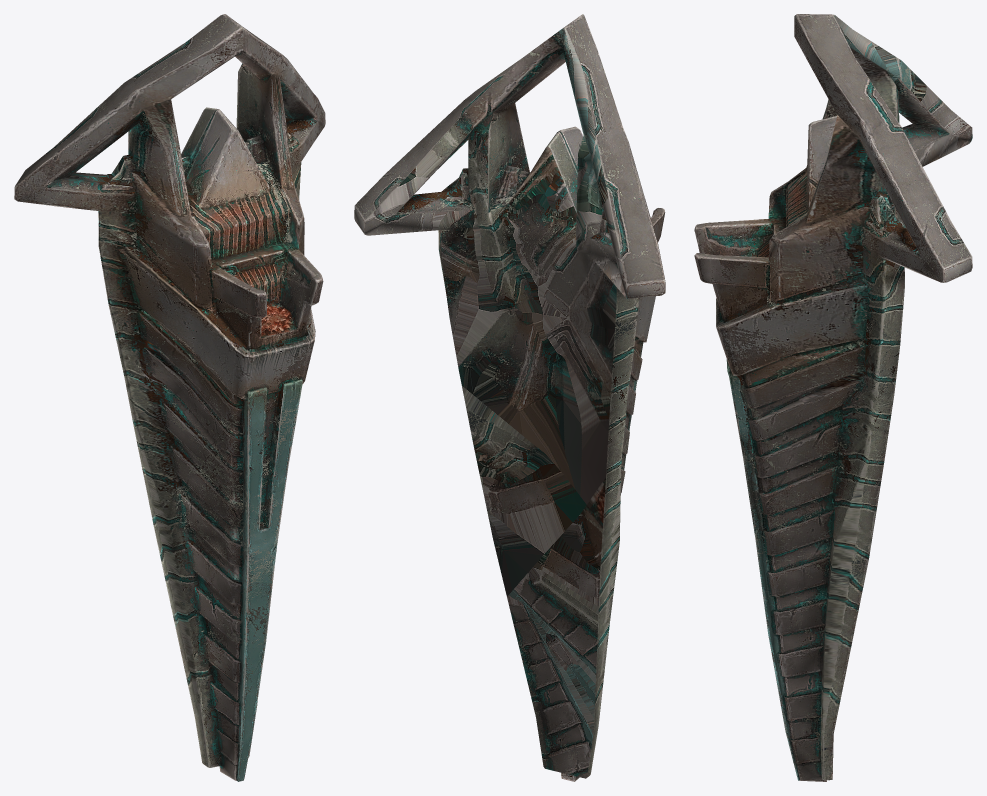
The model's file is dwf_torch_pillar.dae.
The picture shows the model from 3 angles, left to right: view 1: azimuth 30°, elevation 25°; view 2: azimuth 150°, elevation 25°; view 3: azimuth 270°, elevation 25°; orthographic projection.
Visible parts, largest first — view 1: DWF_Torch_01; view 2: DWF_Torch_01; view 3: DWF_Torch_01.
Boxes of the visible parts, x1=… form: DWF_Torch_01: x1=14, y1=14, x2=325, y2=781; DWF_Torch_01: x1=354, y1=14, x2=665, y2=781; DWF_Torch_01: x1=694, y1=14, x2=972, y2=781.
Size of the model in its own units: 0.5108 by 1.19 by 0.391.
